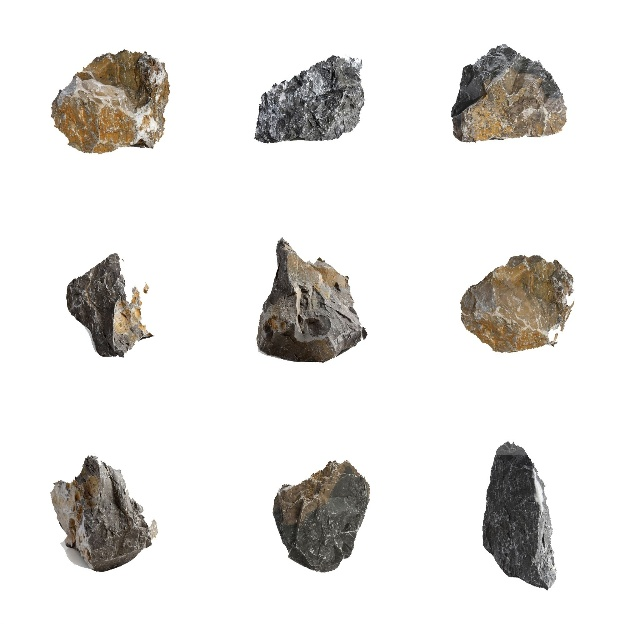obstacle: (257, 239, 366, 362), (51, 456, 157, 571), (52, 50, 169, 153), (451, 45, 566, 141), (461, 255, 573, 352), (483, 442, 556, 589), (273, 461, 369, 572), (255, 56, 364, 142), (67, 254, 152, 356)
